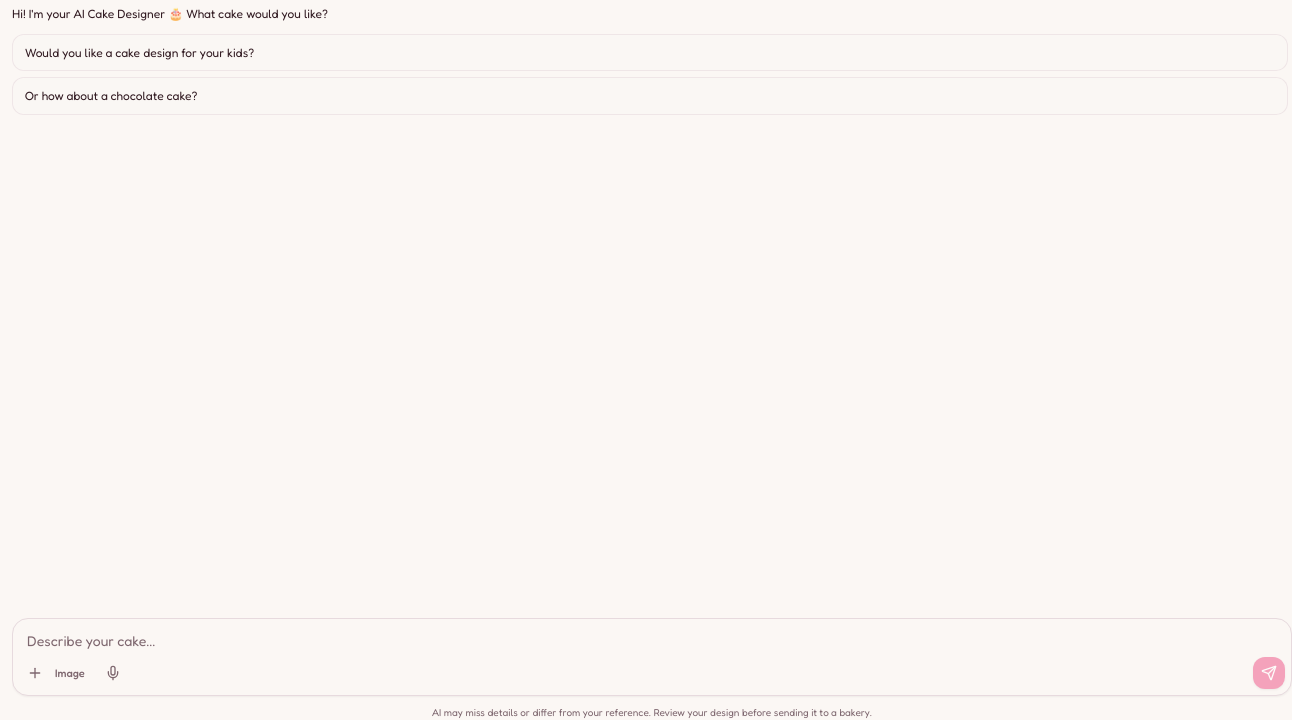
dictates into the draft without sending and stops when the AI panel is hidden
Click the button named "Start dictation": (113, 673) [97,657,129,689]
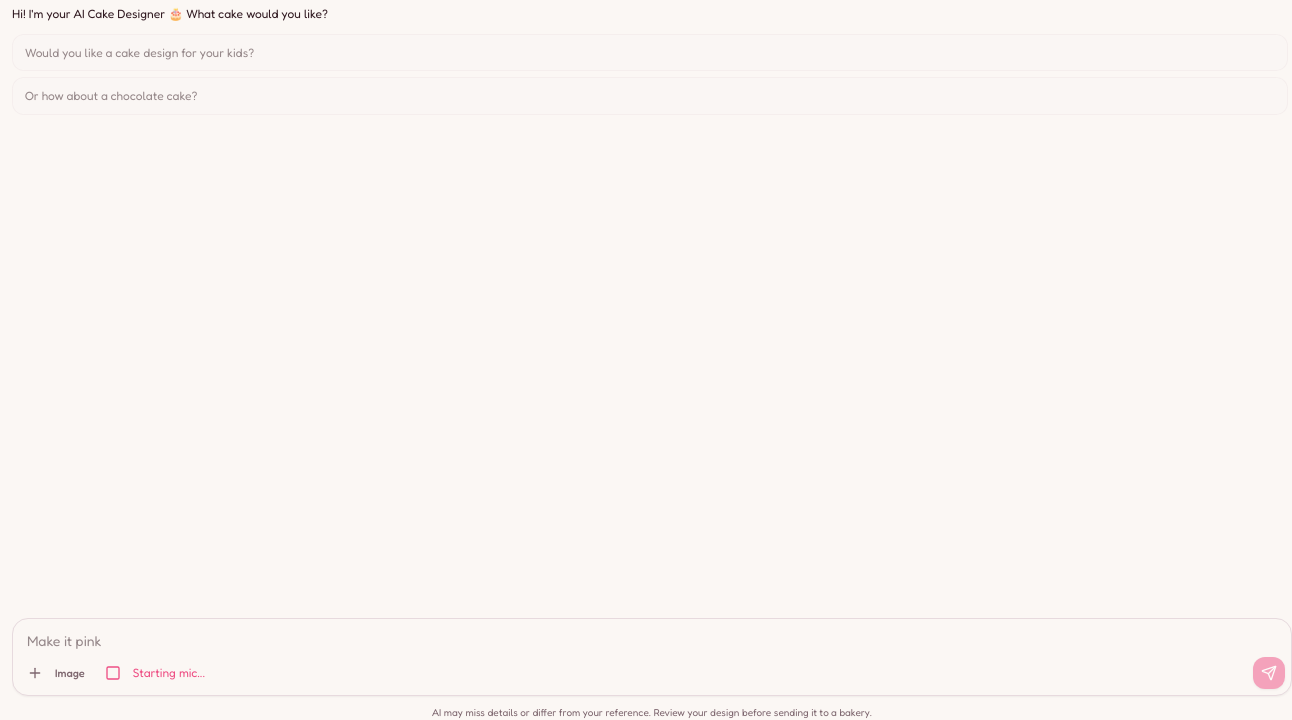
expect the text box with placeholder "Describe your cake..." holds "Make it pink": met, box [19,625,1285,657]
